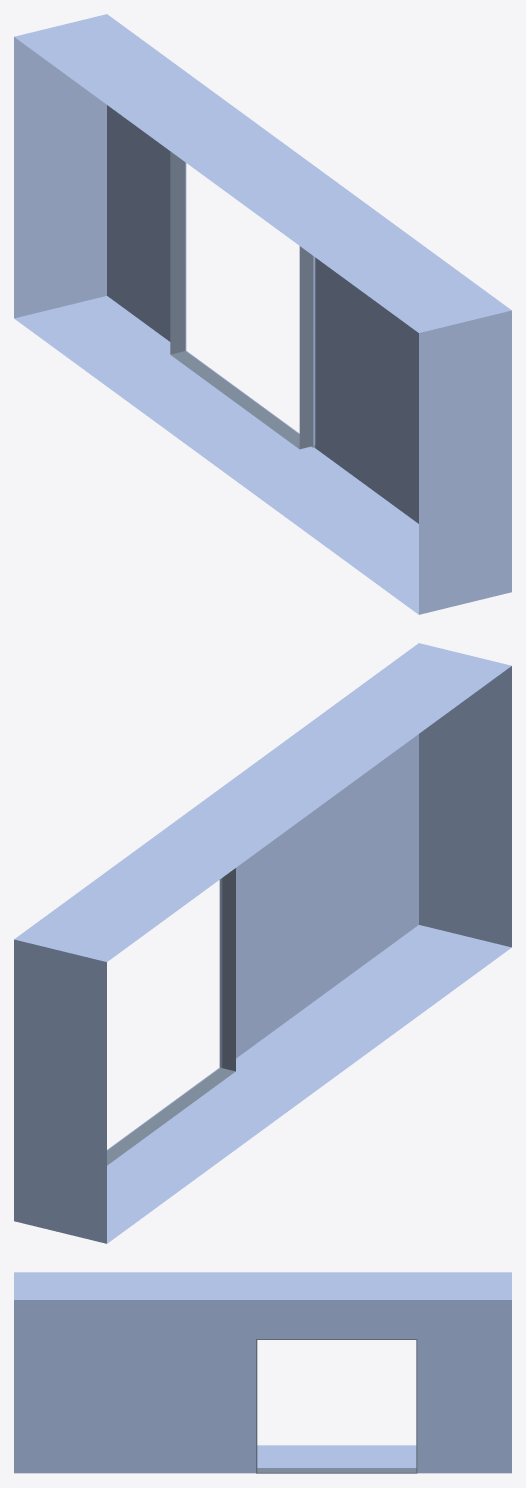
Rendered from BackWall5.fbx.
3 views of the same model, one above another, from view 1: azimuth 30°, elevation 25°; view 2: azimuth 150°, elevation 25°; view 3: azimuth 270°, elevation 25° (orthographic). The views are drawn at different scales.
Parts seen in each view (by area): view 1: Back_Wall; view 2: Back_Wall; view 3: Back_Wall.
Part boxes in pixels (x1,y1,x2,y2): Back_Wall: (14,14,511,614); Back_Wall: (14,643,511,1243); Back_Wall: (14,1272,511,1473).
Size of the model in its own units: 89.65 by 255 by 664.
Materials: 1 (1 with a texture image).
